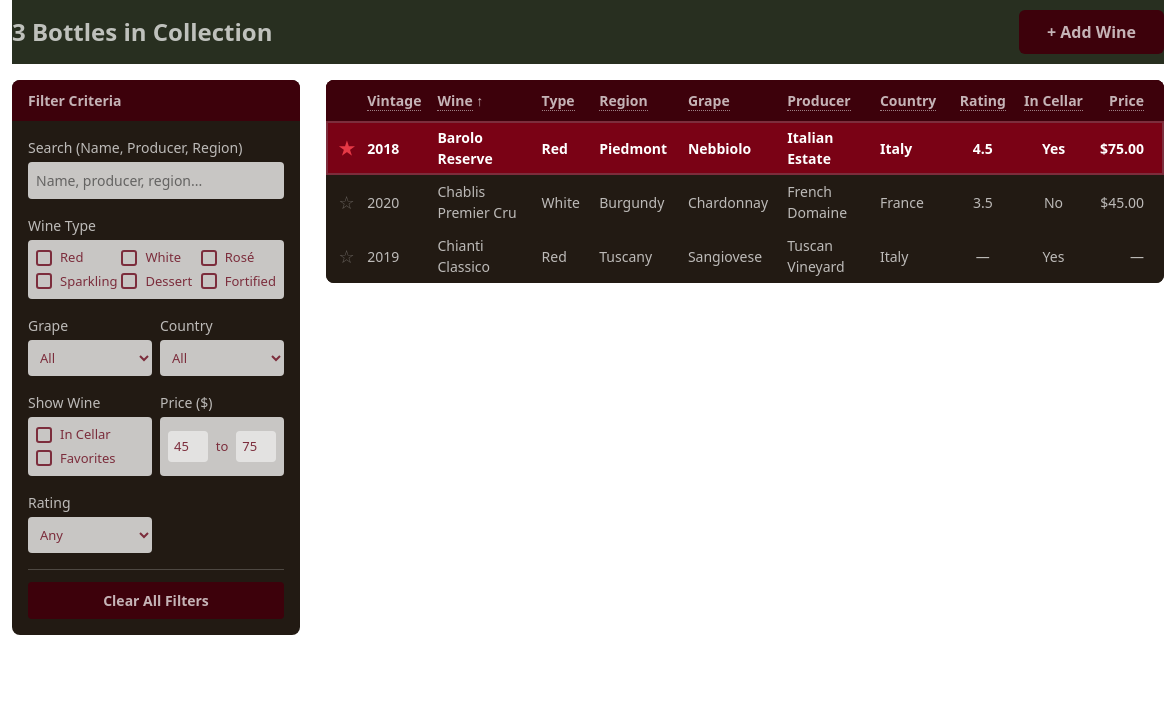
Test: Home Page - Additional Coverage › Filter Functionality › filters by grape variety
Expected: the text "Barolo Reserve" is shown, [429, 121, 534, 175]
# Find grape variety select by its id
Select "Nebbiolo" in the dropdown with id "grape-variety": (90, 358) [28, 340, 152, 376]
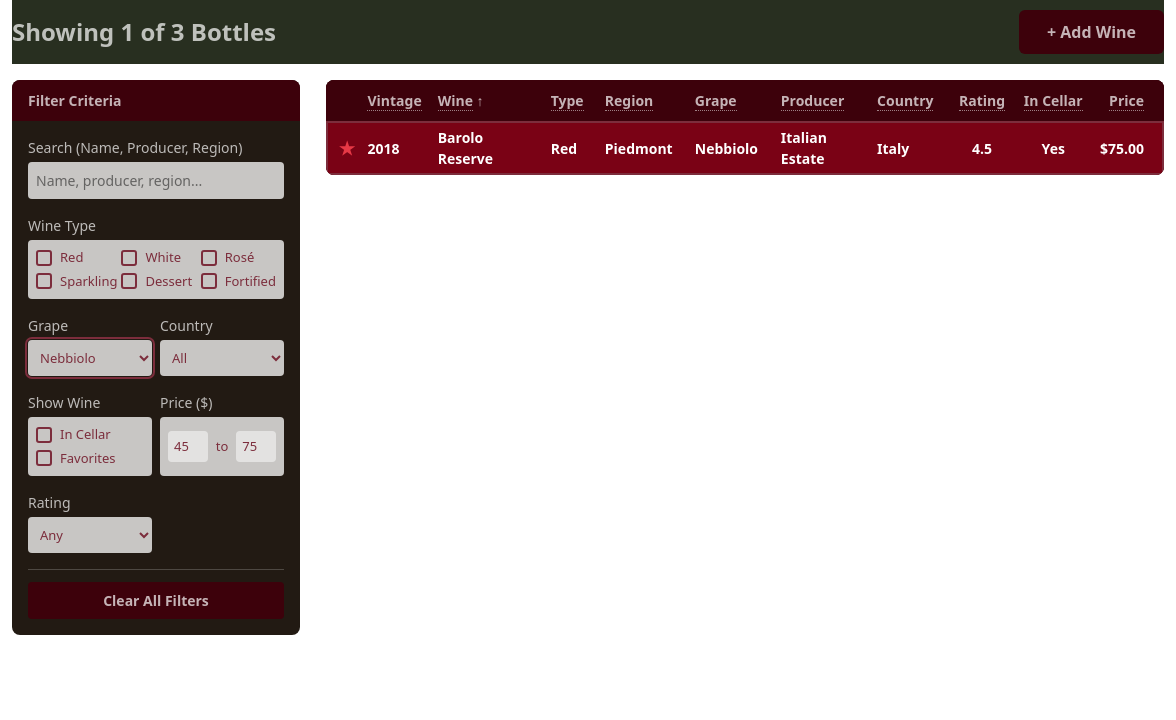
Expected: the text "Barolo Reserve" is shown, [430, 121, 543, 175]
Expected: the text "Chablis Premier Cru" is gone
Expected: the text "Chianti Classico" is gone
